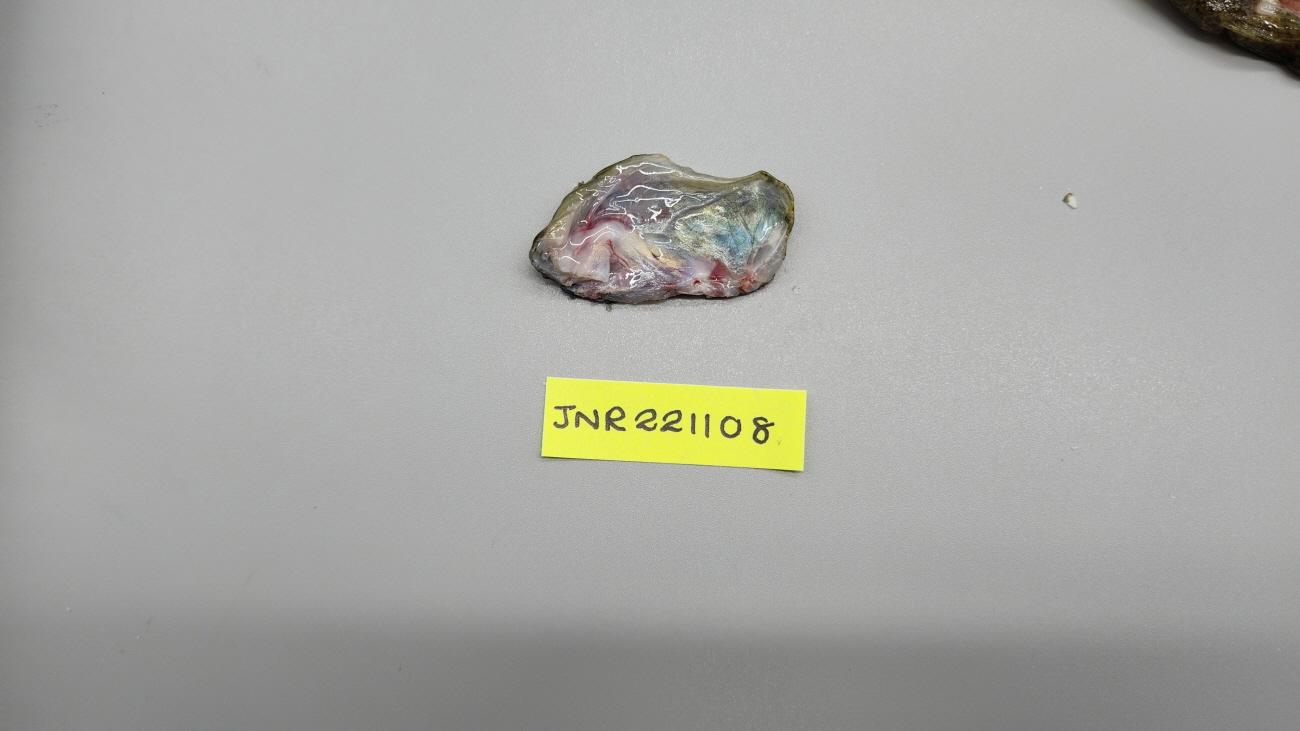POGCN: (529, 154, 795, 304)
